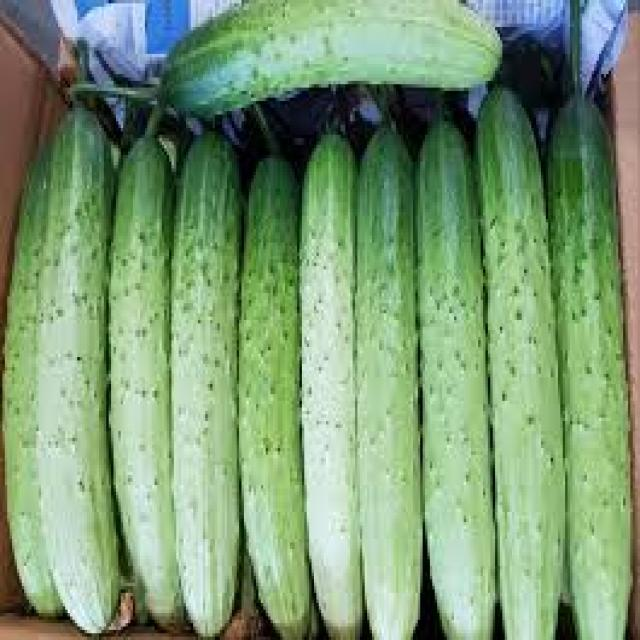Cucumber: (478, 88, 558, 636), (36, 101, 109, 637), (229, 101, 302, 637), (350, 101, 423, 637), (415, 101, 488, 637), (101, 94, 174, 630), (158, 100, 231, 635), (290, 101, 362, 637), (551, 91, 623, 626), (161, 0, 507, 104)
